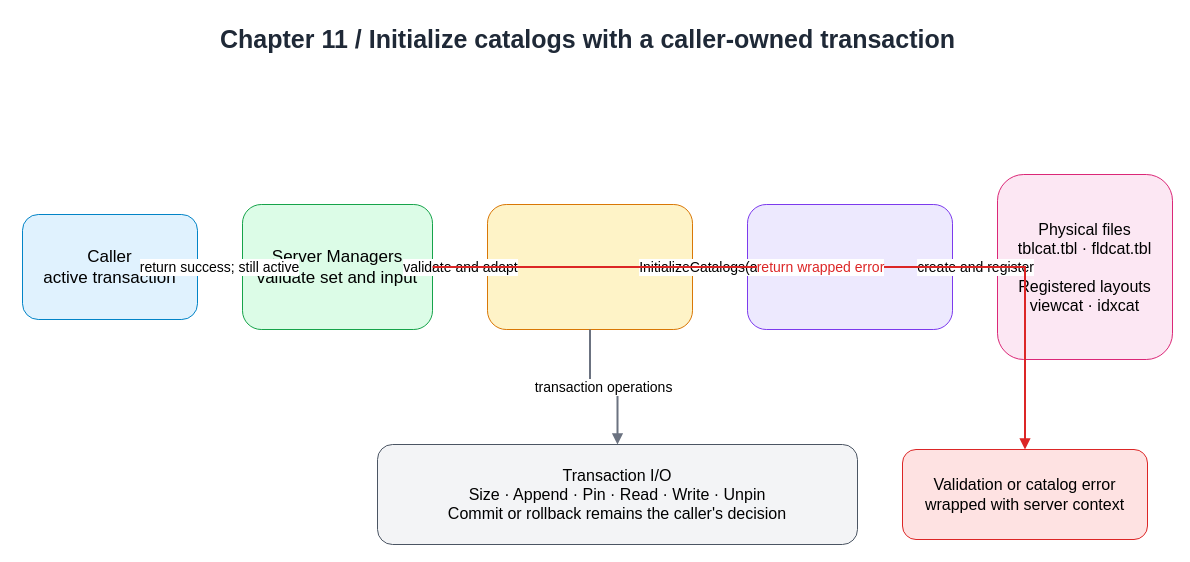
This 1190x562 diagram has some shape labels left out. Here are the shapes that lost their labels. From the top down, the centre of each, then its label:
the point at 589,267: tableScanTransaction record-scan adapter
the point at 849,267: MetadataManager InitializeCatalogs
